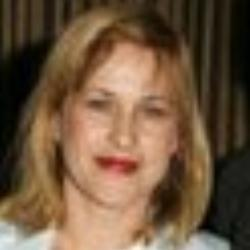face: (11, 1, 220, 229)
